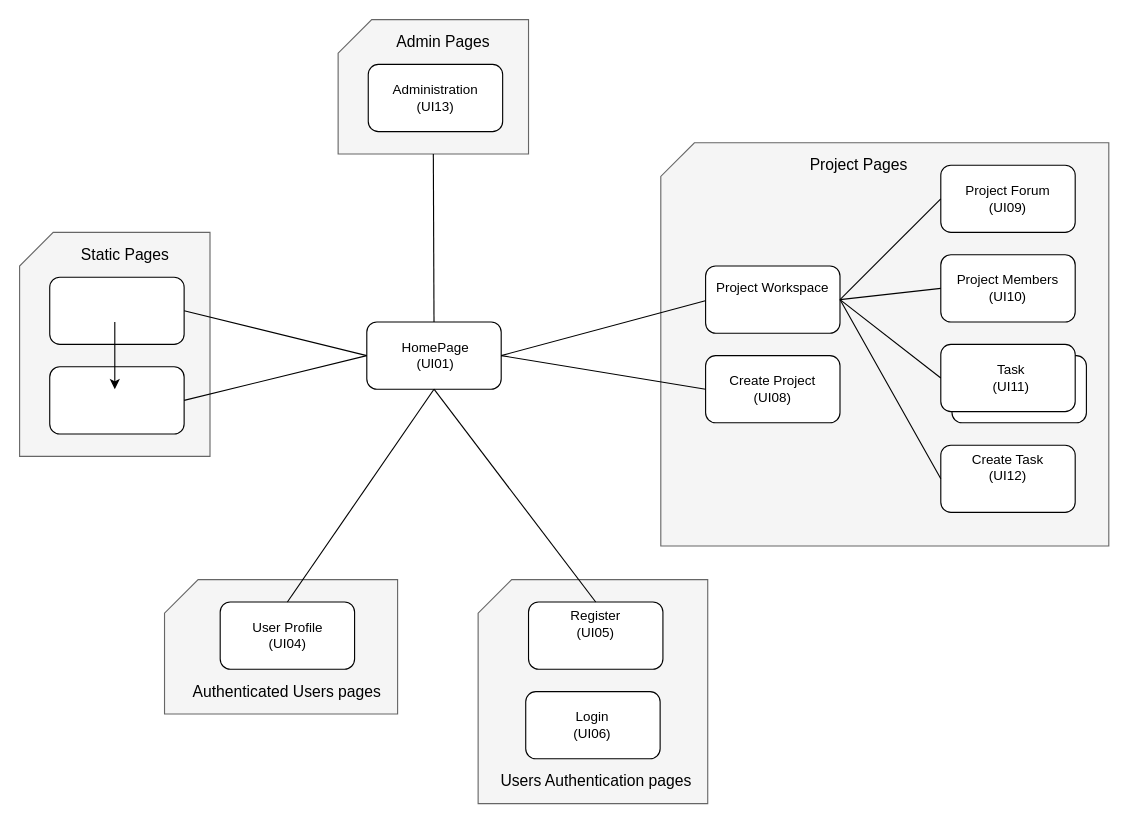
Image size: 1129x823. Some labels were removed from this diagram. The box of each missing label's shape, as (x1, y1, x2, y2) in pixels:
(UI07): (704, 265, 840, 333)
About Us (UI03): (49, 366, 184, 434)
FAQ'S (UI02): (49, 276, 184, 344)
